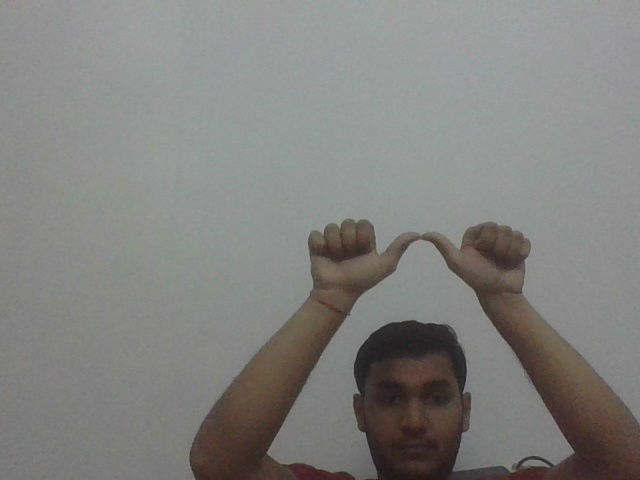A: (305, 216, 533, 292)
